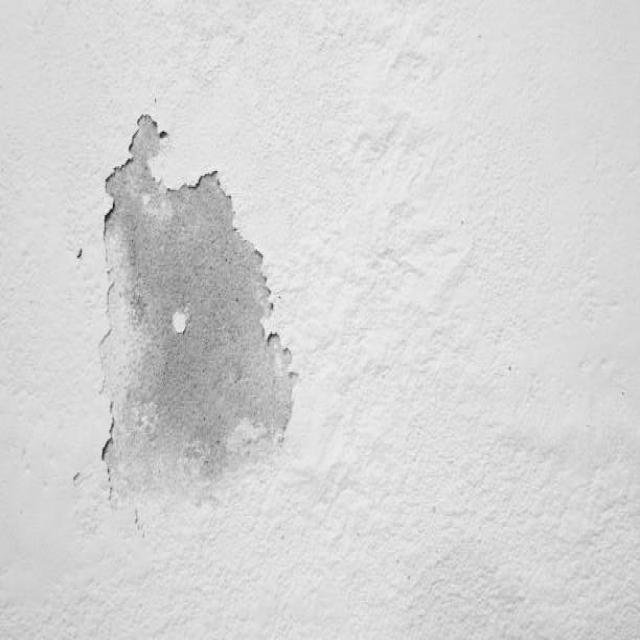peeling paint: (58, 90, 356, 550)
